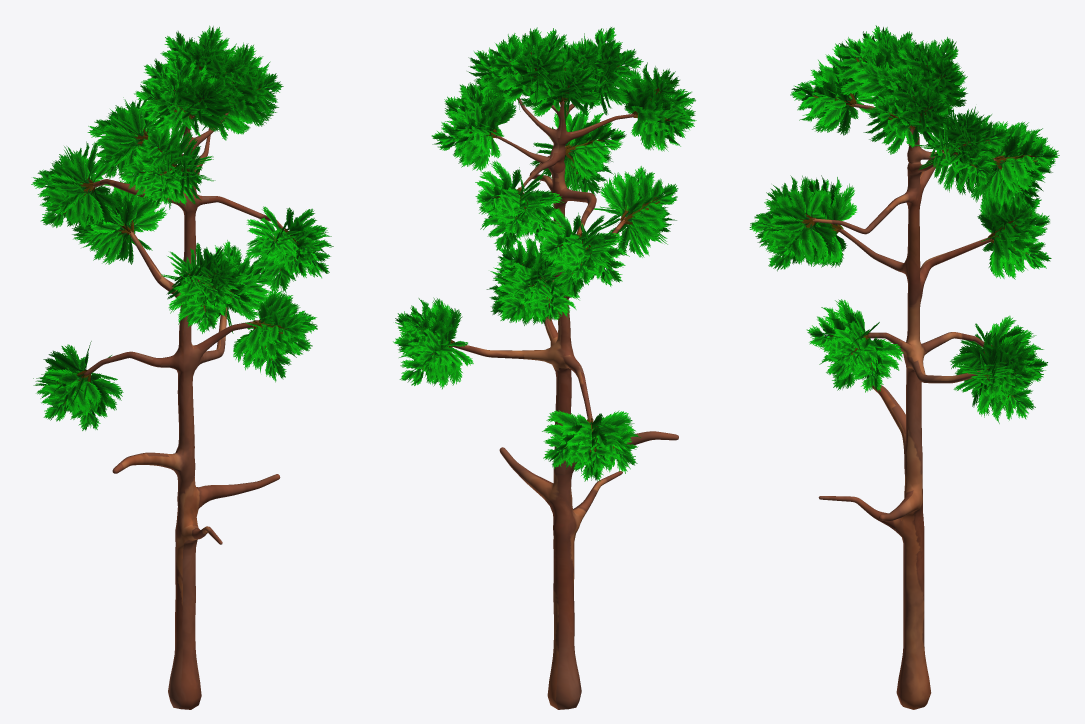
Rendered from PineTree.fbx.
The picture shows the model from 3 angles, left to right: view 1: azimuth 30°, elevation 25°; view 2: azimuth 150°, elevation 25°; view 3: azimuth 270°, elevation 25°; orthographic projection.
Parts seen in each view (by area): view 1: Plane.001, Cube; view 2: Plane.001, Cube; view 3: Plane.001, Cube.
Boxes of the visible parts, <box> form: Plane.001: <box>31,25,333,430</box>; Cube: <box>84,111,284,709</box>; Plane.001: <box>393,27,696,481</box>; Cube: <box>452,98,678,709</box>; Plane.001: <box>749,25,1059,423</box>; Cube: <box>811,103,996,709</box>.
Size of the model in its own units: 334 by 368 by 845.
2 materials, 2 textured.
